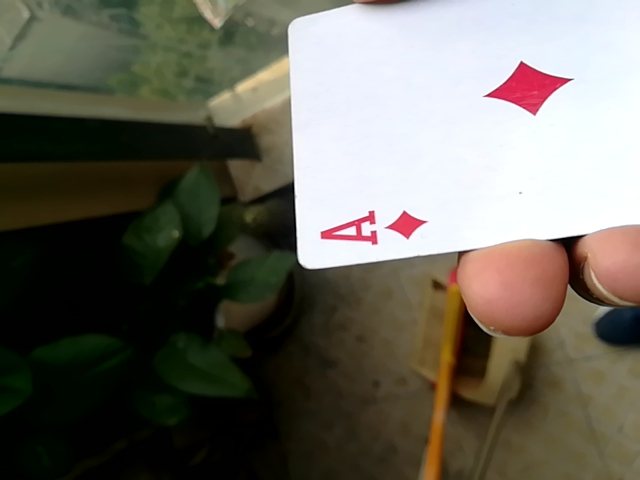fk a: (277, 2, 636, 272)
